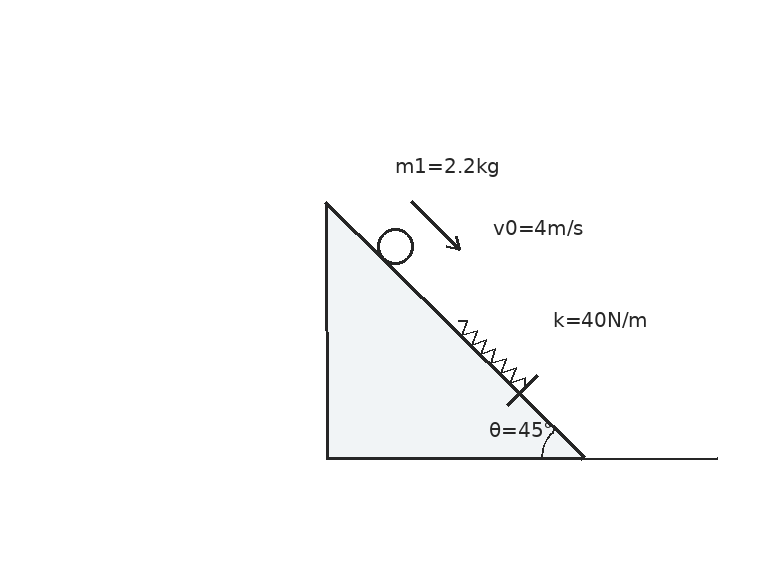ball: (375, 226, 415, 266)
ramp: (324, 200, 584, 460)
spring: (456, 319, 527, 390)
